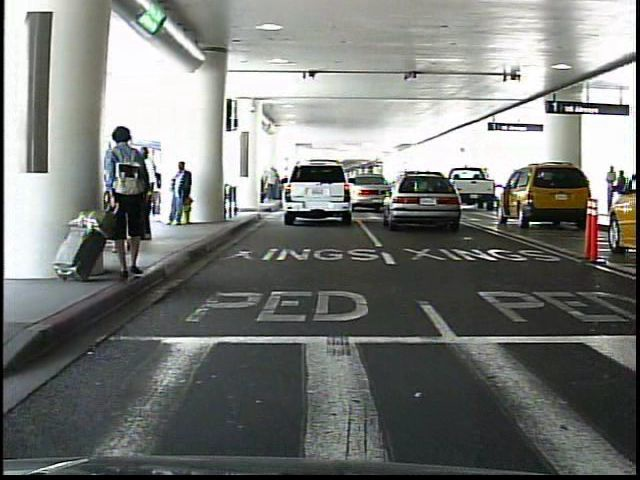person: (106, 124, 157, 283), (132, 145, 160, 239), (169, 157, 195, 227), (610, 166, 628, 212), (602, 164, 616, 213)
